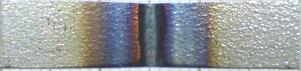soldas: (81, 2, 209, 69)
